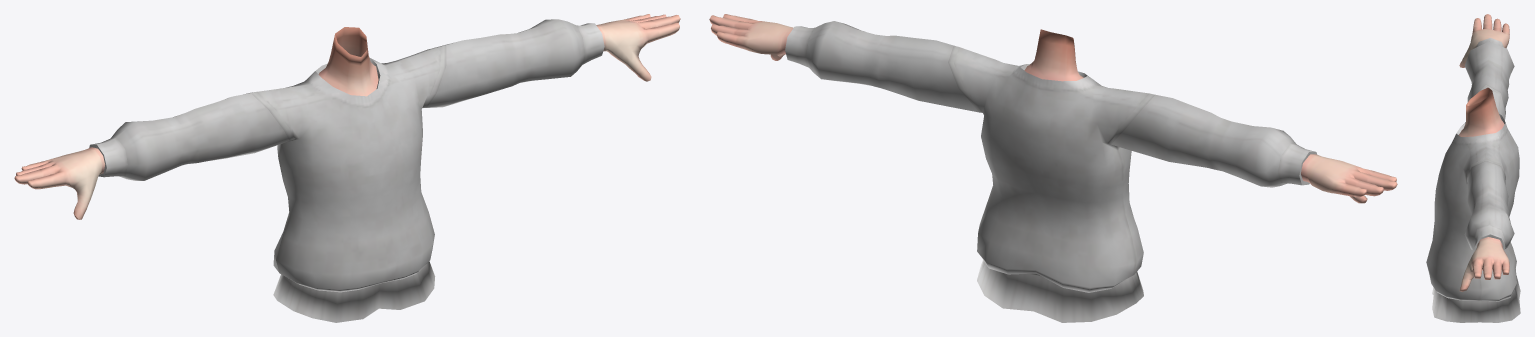
Rendered from tr0730_00_upb02.gltf.
3 renders of one model, left to right at view 1: azimuth 30°, elevation 25°; view 2: azimuth 150°, elevation 25°; view 3: azimuth 270°, elevation 25°, orthographic. The views are drawn at different scales.
Parts seen in each view (by area): view 1: upb02_upperbody_mesh_shape:upperbody02, upb02_upperskin_mesh_shape:upperbody02_skin; view 2: upb02_upperbody_mesh_shape:upperbody02, upb02_upperskin_mesh_shape:upperbody02_skin; view 3: upb02_upperbody_mesh_shape:upperbody02, upb02_upperskin_mesh_shape:upperbody02_skin.
Part boxes in pixels (x1,y1,x2,y2): upb02_upperbody_mesh_shape:upperbody02: [89, 19, 604, 322]; upb02_upperskin_mesh_shape:upperbody02_skin: [14, 14, 680, 219]; upb02_upperbody_mesh_shape:upperbody02: [785, 21, 1316, 322]; upb02_upperskin_mesh_shape:upperbody02_skin: [709, 14, 1397, 203]; upb02_upperbody_mesh_shape:upperbody02: [1426, 38, 1520, 322]; upb02_upperskin_mesh_shape:upperbody02_skin: [1458, 14, 1509, 291].
Size of what is drawn, in the model's own units: 1.63 by 0.6148 by 0.2485.
2 materials, 2 textured.
